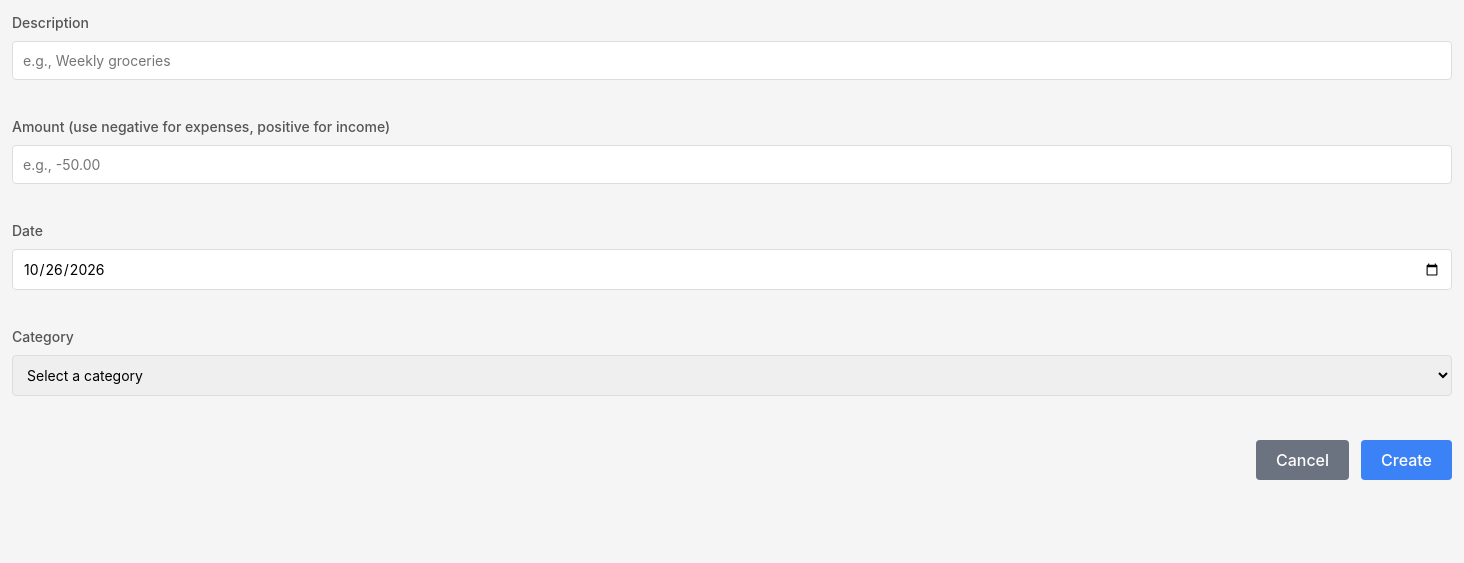
it: TransactionForm › shows validation error when description is empty
Click the button "Create" at (1406, 460), box [1361,440,1452,480]
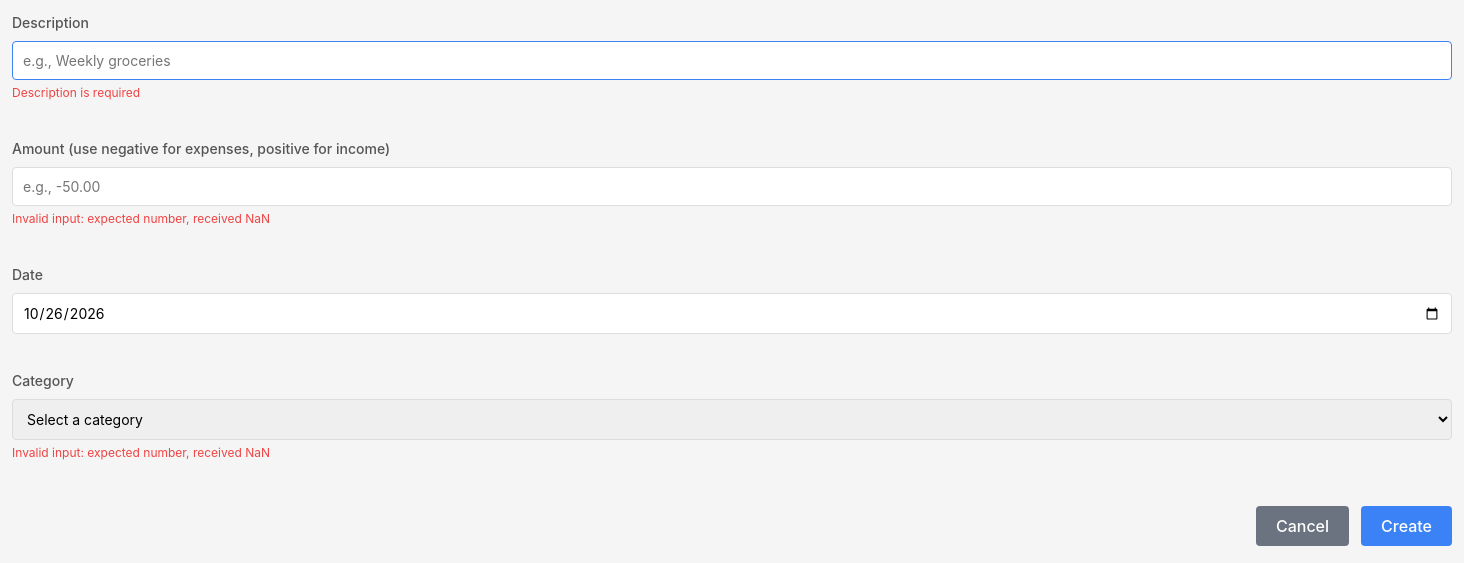
Now the text "Description is required" is shown, box [12,85,140,100]
